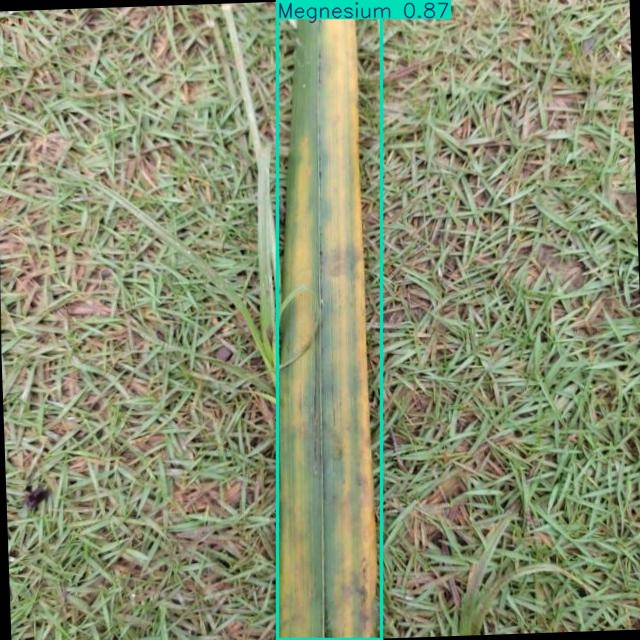Megnesium: (277, 0, 382, 640)
